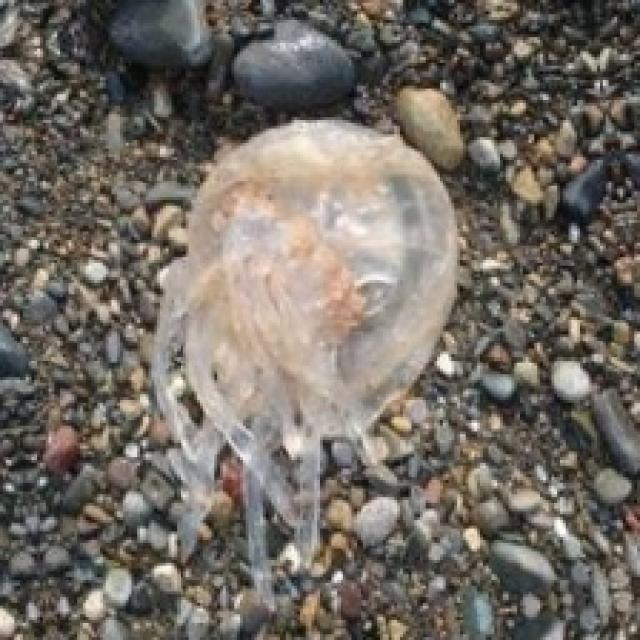Box-jellyfish: (149, 111, 460, 608)
